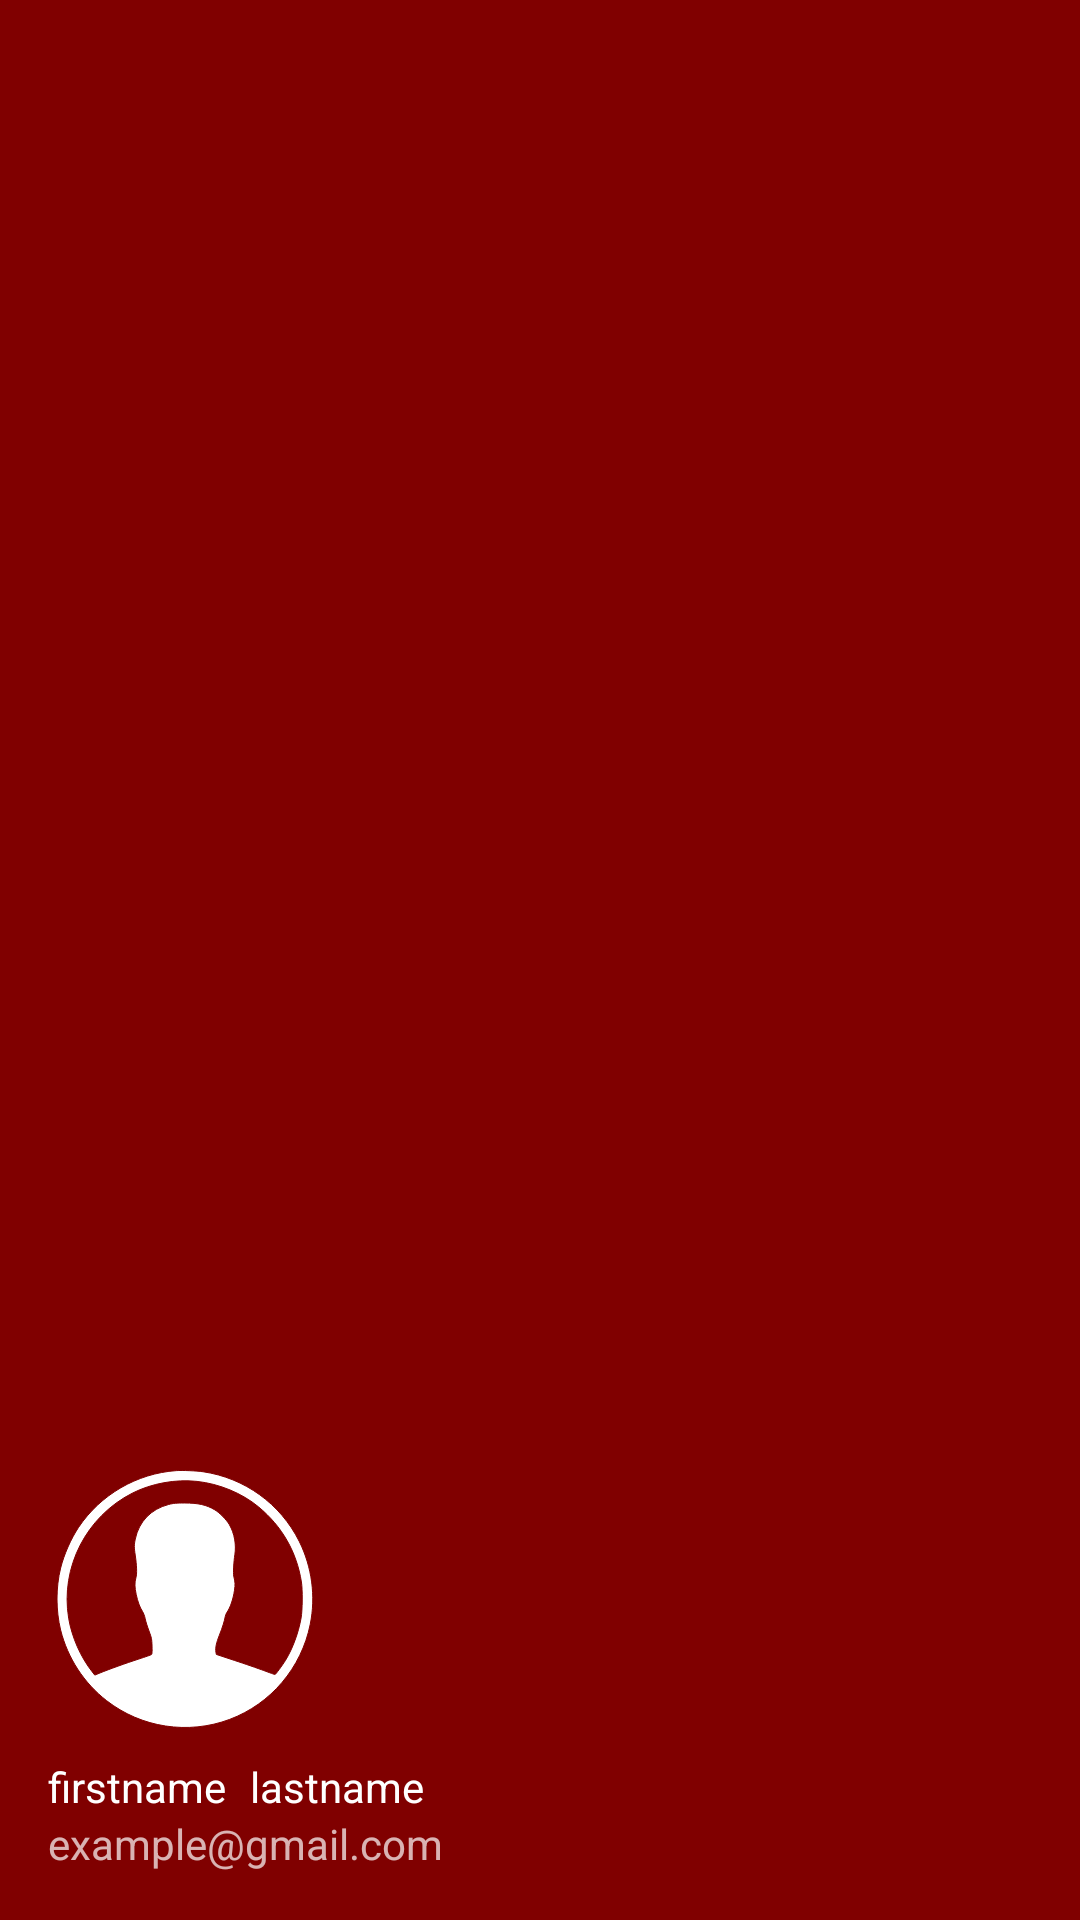

Icon bounding boxes for this 1080 x 1920 phone screenshot, format (x1, y1, x2, y2):
personn: (57, 1470, 313, 1728)
